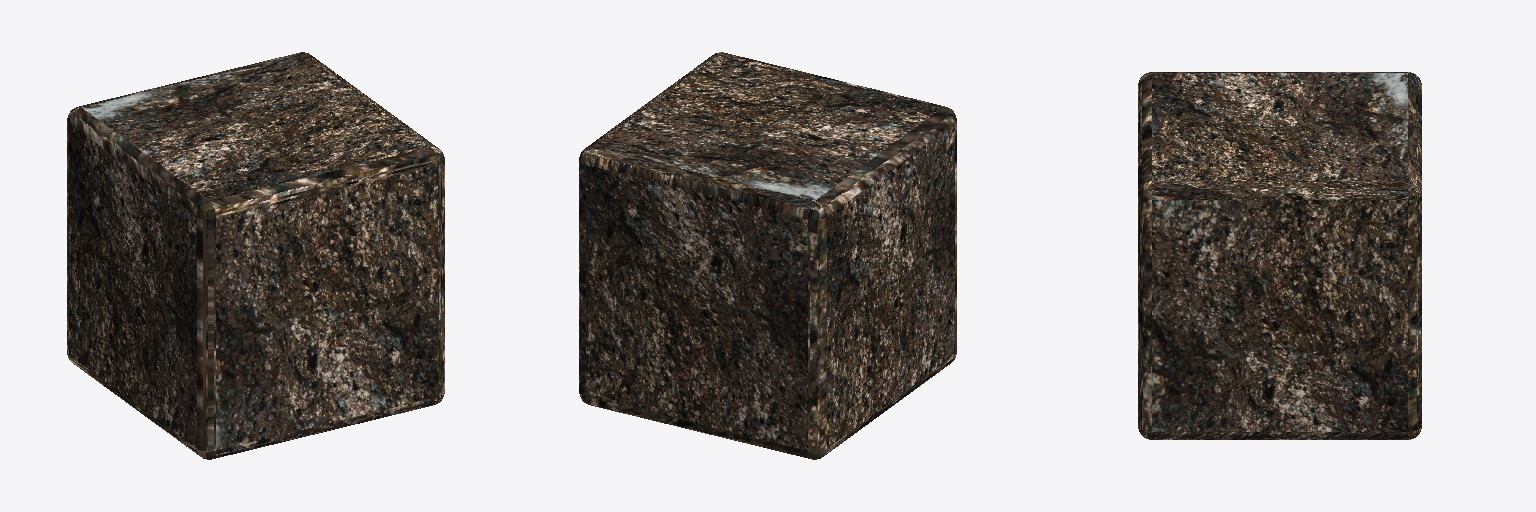
The picture shows the model from 3 angles: view 1: azimuth 30°, elevation 25°; view 2: azimuth 150°, elevation 25°; view 3: azimuth 270°, elevation 25°; orthographic projection.
Parts seen in each view (by area): view 1: Cube; view 2: Cube; view 3: Cube.
Boxes of the visible parts, x1=… form: Cube: x1=67, y1=52, x2=444, y2=459; Cube: x1=579, y1=52, x2=956, y2=459; Cube: x1=1138, y1=72, x2=1421, y2=439.
Size of the model in its own units: 2 by 2 by 2.
1 materials, 1 textured.